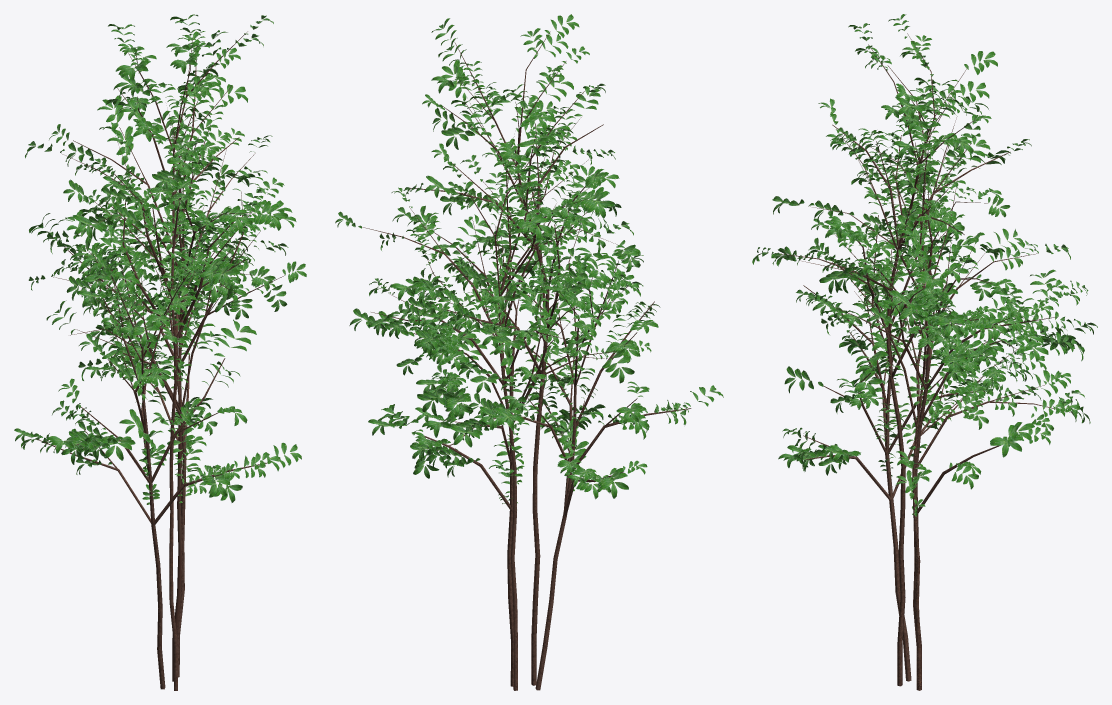
File: shimatoneriko.fbx
3 renders of one model, left to right at view 1: azimuth 30°, elevation 25°; view 2: azimuth 150°, elevation 25°; view 3: azimuth 270°, elevation 25°, orthographic.
Visible parts, largest first — view 1: Tree.004, Tree.002, Tree, Tree.001, つやのある葉.014; view 2: Tree, Tree.004, Tree.002, Tree.001; view 3: Tree.004, Tree, Tree.002, Tree.001.
Boxes of the visible parts, x1,y1,x2,y2 form: Tree.004: [73, 31, 247, 690]; Tree.002: [37, 247, 267, 689]; Tree: [52, 93, 284, 681]; Tree.001: [70, 213, 249, 677]; つやのある葉.014: [254, 201, 288, 230]; Tree: [362, 100, 627, 690]; Tree.004: [409, 31, 603, 685]; Tree.002: [490, 223, 691, 690]; Tree.001: [390, 225, 607, 686]; Tree.004: [832, 33, 1010, 686]; Tree: [775, 116, 1058, 690]; Tree.002: [803, 215, 985, 681]; Tree.001: [854, 238, 1072, 688].
Size of what is drawn, in the model's own units: 155 by 320 by 153.
Materials: 2 (2 with a texture image).
